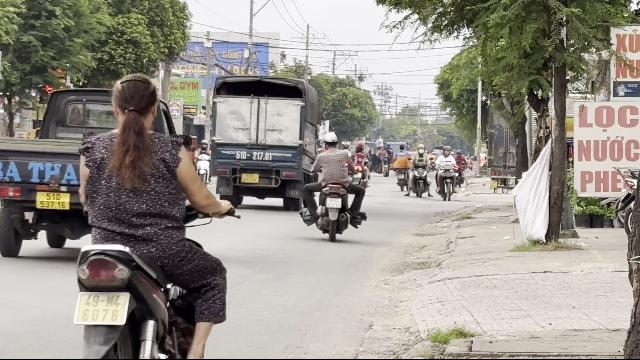helmet: (322, 132, 338, 148)
licenseplate: (75, 292, 129, 324), (326, 198, 342, 208)
motorcyclist: (62, 70, 242, 356), (307, 131, 367, 241)
nohelmet: (109, 75, 161, 127)
